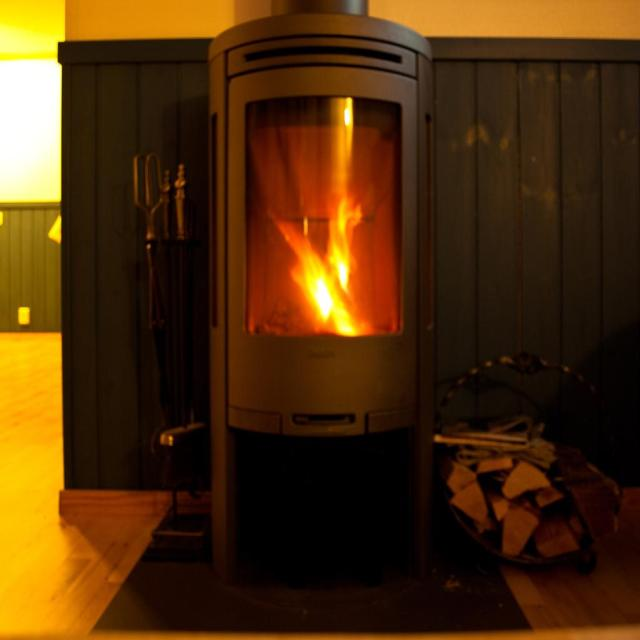Fire: (271, 161, 389, 335)
